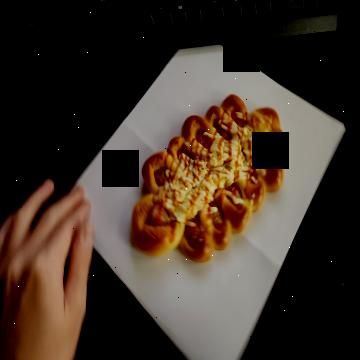pizza_bread: (130, 93, 285, 265)
